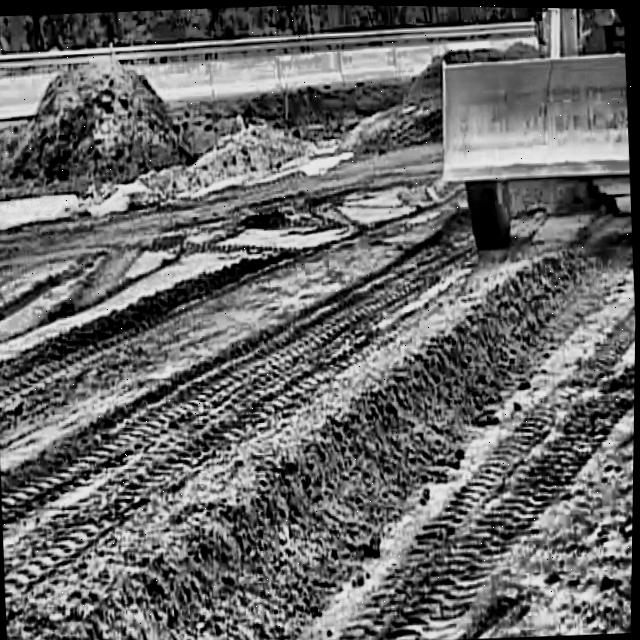buldozerpayloadergrader: (437, 5, 635, 242)
